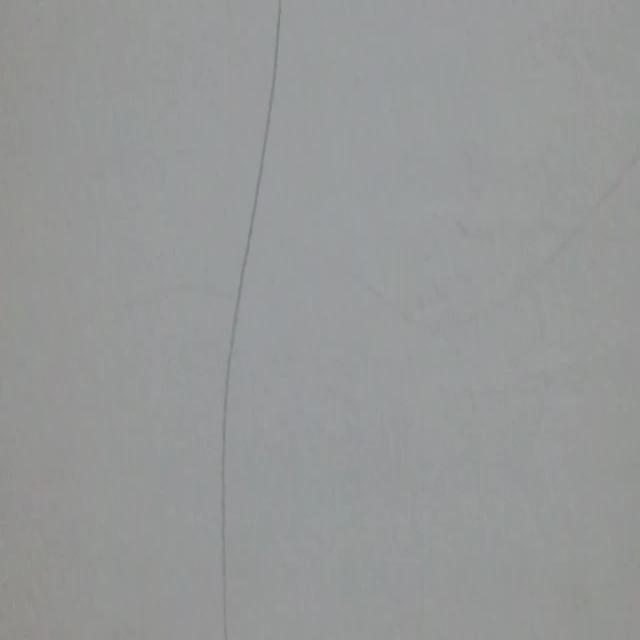Crack: (180, 0, 312, 637)
